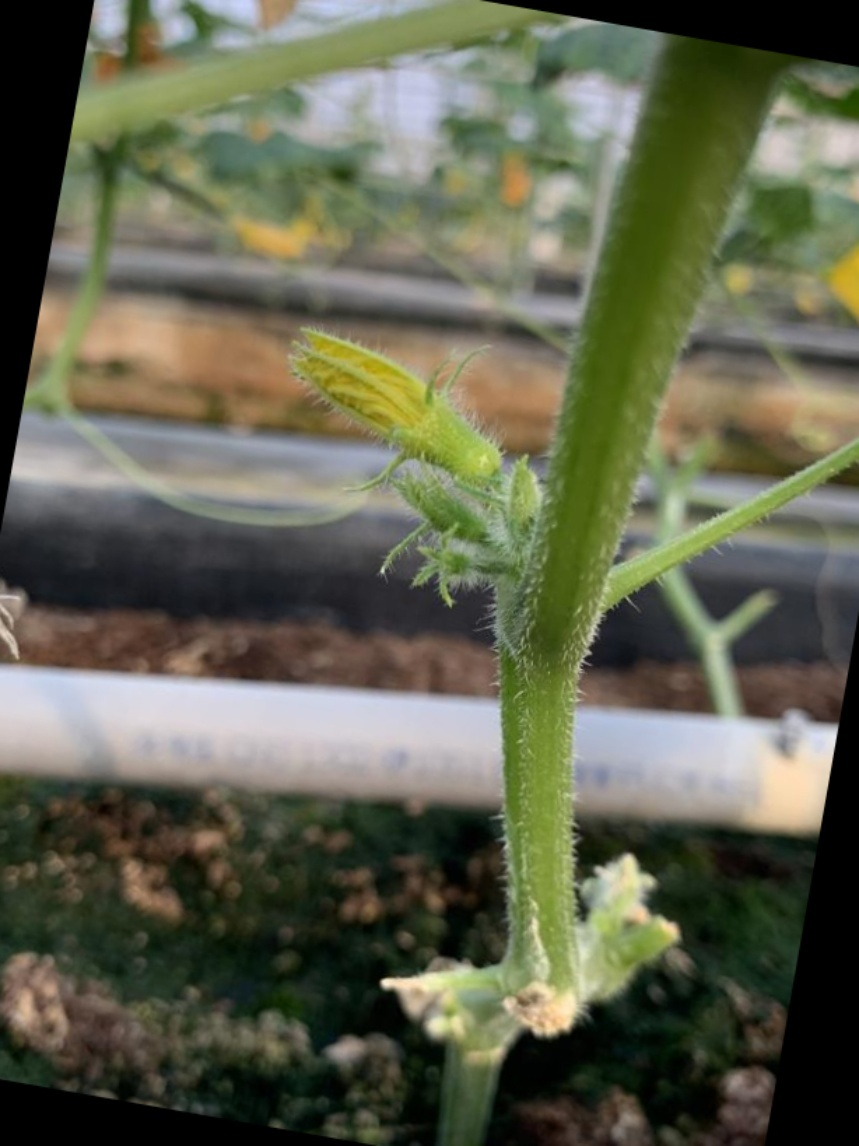bud: (278, 319, 509, 494)
